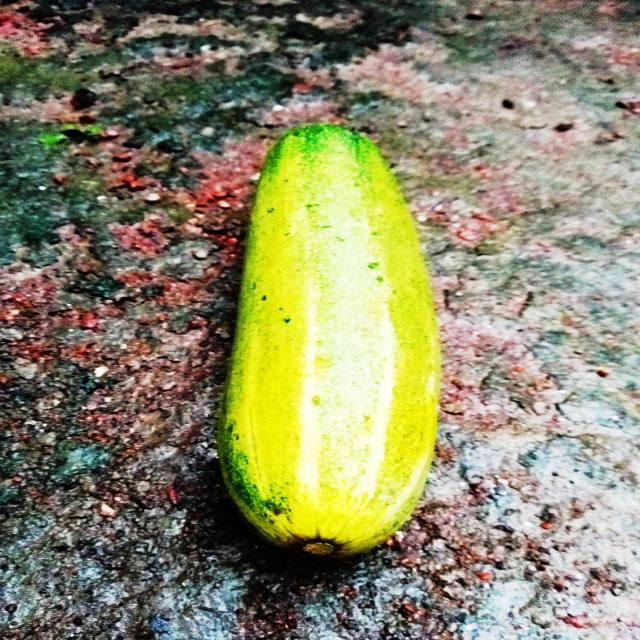Fresh-Cucumber: (218, 118, 441, 561)
